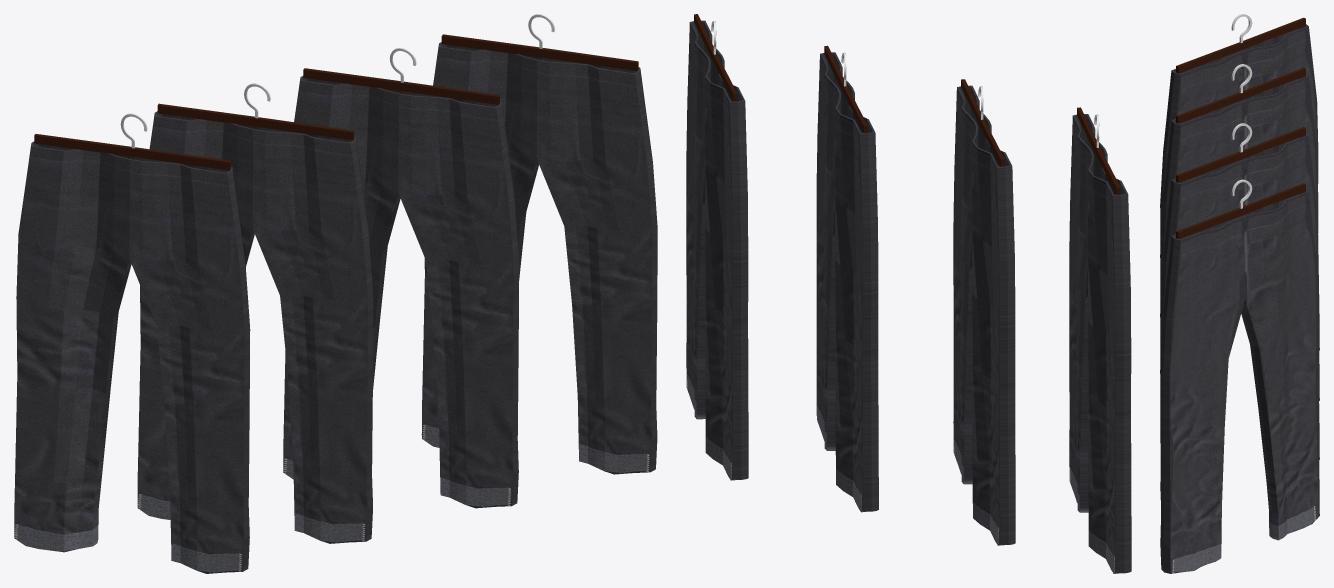
Rendered from crow2.glb.
3 views of the same model, side by side, from view 1: azimuth 30°, elevation 25°; view 2: azimuth 150°, elevation 25°; view 3: azimuth 270°, elevation 25° (orthographic). The views are drawn at different scales.
Visible parts, largest first — view 1: Plane.306; view 2: Plane.306; view 3: Plane.306.
Part boxes in pixels (left/top/right/bottom): Plane.306: left=14, top=14, right=657, bottom=573; Plane.306: left=686, top=14, right=1131, bottom=573; Plane.306: left=1160, top=14, right=1319, bottom=573.
Size of the model in its own units: 0.6186 by 0.4706 by 0.1839.
Materials: 3 (3 with a texture image).
